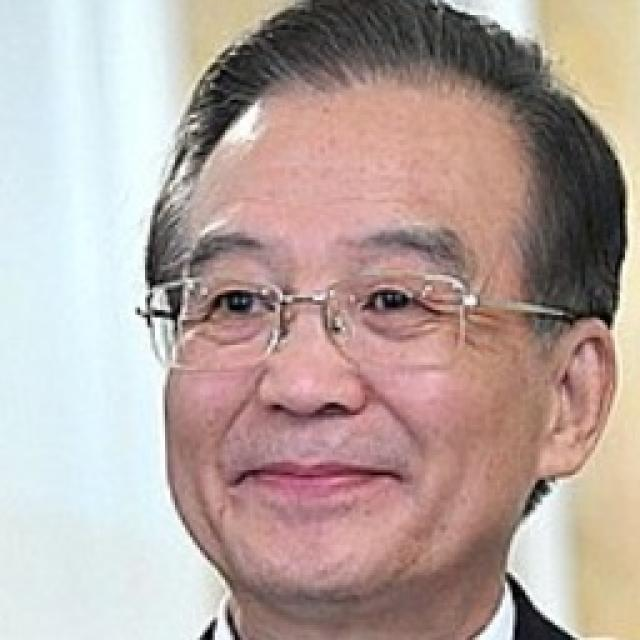glasses: (129, 276, 580, 378)
